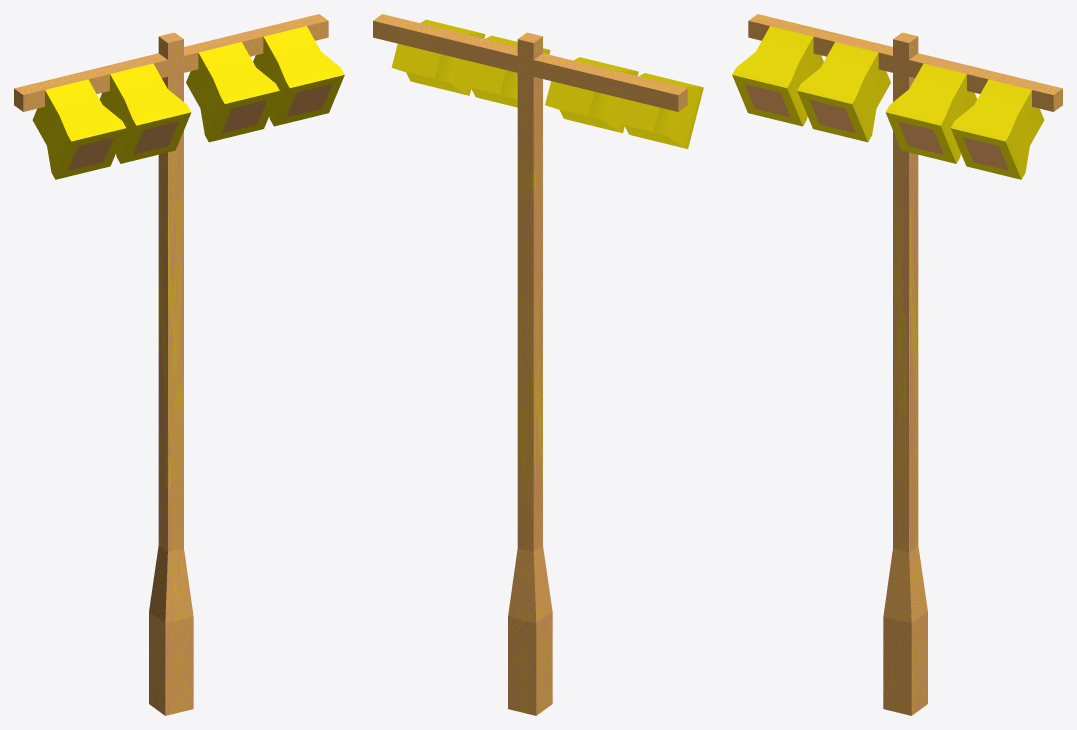
Rendered from lightPostLarge.glb.
3 renders of one model, left to right at view 1: azimuth 30°, elevation 25°; view 2: azimuth 150°, elevation 25°; view 3: azimuth 330°, elevation 25°, orthographic.
Parts seen in each view (by area): view 1: lightPostLarge(Clone); view 2: lightPostLarge(Clone); view 3: lightPostLarge(Clone).
Part boxes in pixels (x1,y1,x2,y2): lightPostLarge(Clone): [14, 14, 344, 715]; lightPostLarge(Clone): [373, 14, 703, 715]; lightPostLarge(Clone): [732, 14, 1062, 715].
Size of the model in its own units: 0.38 by 0.7957 by 0.0971.
